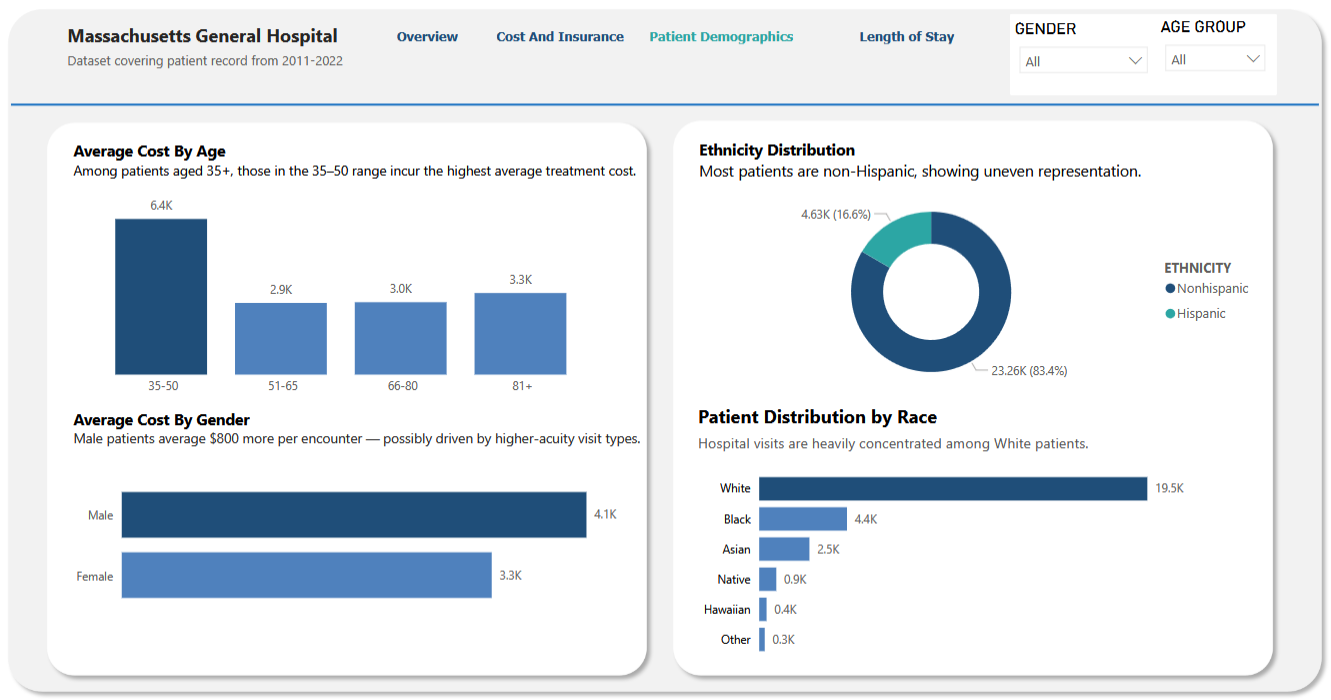

This screenshot's page, from the dashboard's own definition file:
{"tool":"powerbi","page":{"name":"PATIENT DEMOGRAPHICS","canvas":[1400,740],"ordinal":2},"visuals":[{"type":"shape","box":[0,10,1370,720],"z":0},{"type":"textbox","title":"Massachusetts General Hospital","box":[65.2,32.6,313.7,77.6],"z":1000},{"type":"shape","box":[11.7,113.3,1346.7,8.3],"z":2000},{"type":"actionButton","box":[379.3,26.7,122.7,40.4],"z":3000},{"type":"actionButton","box":[501.6,26.4,150.6,40.4],"z":4000},{"type":"actionButton","box":[653.8,26.4,178.6,40.4],"z":5000},{"type":"actionButton","box":[832.3,26.4,203.4,40.4],"z":6000},{"type":"shape","box":[685,125,635,588.3],"z":7000},{"type":"shape","box":[40,126.7,635,586.7],"z":8000},{"type":"barChart","fields":{"Category":["patients.GENDER"],"Y":["encounters.Avg Cost"]},"box":[70,446.7,576.7,241.7],"z":9000},{"type":"donutChart","fields":{"Category":["patients.ETHNICITY"],"Y":["CountNonNull(encounters.PATIENT ID)"]},"box":[714.3,198.8,585.4,222.1],"z":10000},{"type":"columnChart","fields":{"Category":["patients.AGE GROUP"],"Y":["encounters.Avg Cost"]},"box":[65,198.3,576.7,226.7],"z":11000},{"type":"textbox","title":"Average Cost by Age Group","box":[70.5,148.7,604.2,70.5],"z":12000},{"type":"textbox","box":[70.5,424.8,604.2,72.1],"z":13000},{"type":"textbox","box":[715,148.3,536.7,71.7],"z":14000},{"type":"shape","box":[1040.1,24.2,274.6,84],"z":15000},{"type":"barChart","title":"Patient Distribution by Race","fields":{"Category":["patients.RACE"],"Y":["CountNonNull(encounters.ENCOUNTER ID)"]},"box":[714.3,425.5,512.4,271.8],"z":16000},{"type":"slicer","title":"GENDER","fields":{"Values":["patients.GENDER"]},"box":[1040.1,29.1,151.8,77.5],"z":17000},{"type":"slicer","title":"AGE GROUP","fields":{"Values":["patients.AGE GROUP"]},"box":[1190.3,27.5,122.7,75.9],"z":18000}]}

Visuals, with their boxes in screenshot pixels (x1, y1, x2, y2), scaled from the page's 1400x740 canvas onto the 1331x700 screenshot:
shape: [0, 9, 1302, 691]
"Massachusetts General Hospital" textbox: [62, 31, 360, 104]
shape: [11, 107, 1291, 115]
actionButton: [361, 25, 477, 63]
actionButton: [477, 25, 620, 63]
actionButton: [622, 25, 791, 63]
actionButton: [791, 25, 985, 63]
shape: [651, 118, 1255, 675]
shape: [38, 120, 642, 675]
barChart - patients.GENDER x encounters.Avg Cost: [67, 423, 615, 651]
donutChart - patients.ETHNICITY x CountNonNull(encounters.PATIENT ID): [679, 188, 1236, 398]
columnChart - patients.AGE GROUP x encounters.Avg Cost: [62, 188, 610, 402]
"Average Cost by Age Group" textbox: [67, 141, 641, 207]
textbox: [67, 402, 641, 470]
textbox: [680, 140, 1190, 208]
shape: [989, 23, 1250, 102]
"Patient Distribution by Race" barChart: [679, 402, 1166, 660]
"GENDER" slicer: [989, 28, 1133, 101]
"AGE GROUP" slicer: [1132, 26, 1248, 98]
